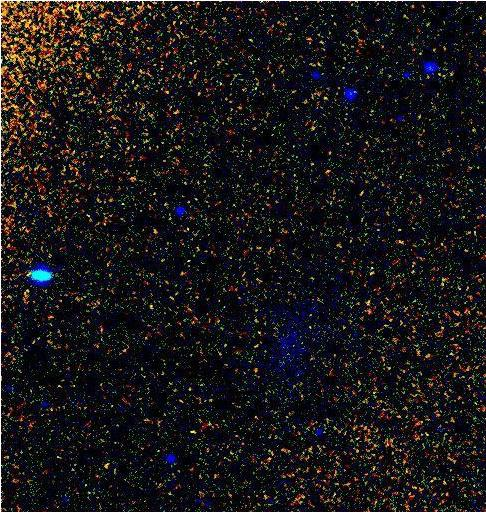star: (13, 259, 43, 289)
